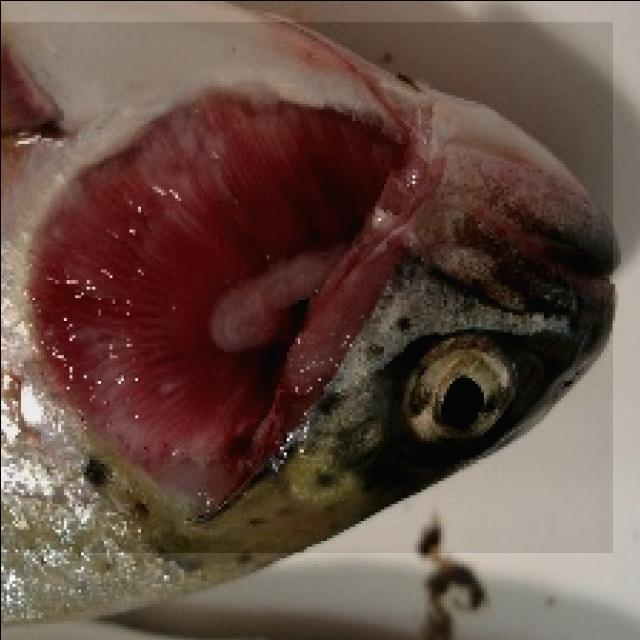Gill Disease: (0, 21, 612, 552)
